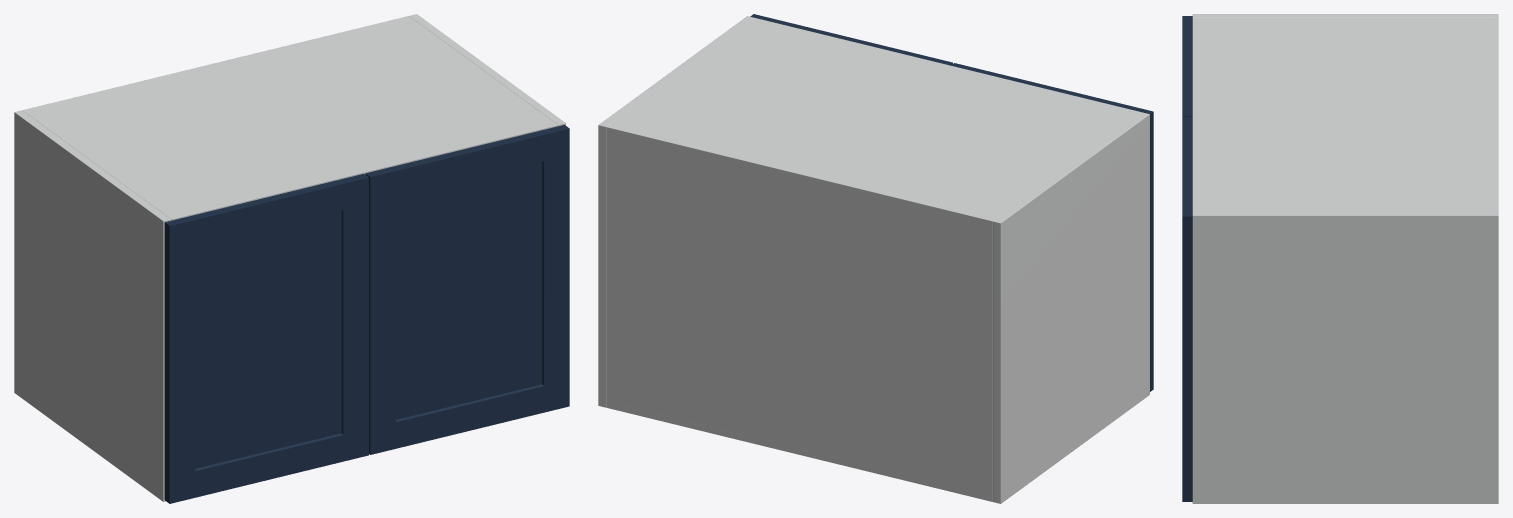
Rendered from oppein-pb-bss-w362424.glb.
The picture shows the model from 3 angles, left to right: view 1: azimuth 30°, elevation 25°; view 2: azimuth 150°, elevation 25°; view 3: azimuth 270°, elevation 25°; orthographic projection. The views are drawn at different scales.
Visible parts, largest first — view 1: Door, Door.001, Cabinet top, Cabinet side, Cabinet side.001, Cabinet back; view 2: Cabinet back, Cabinet top, Cabinet side, Cabinet side.001, Cabinet bottom, Door, Door.001; view 3: Cabinet side.001, Cabinet top, Door.001, Cabinet side, Cabinet back, Door.
Boxes of the visible parts, left/top/right/bottom form: Door: left=164, top=173, right=368, bottom=503; Door.001: left=365, top=125, right=569, bottom=454; Cabinet top: left=22, top=18, right=557, bottom=220; Cabinet side: left=14, top=110, right=170, bottom=501; Cabinet side.001: left=409, top=14, right=565, bottom=126; Cabinet back: left=23, top=16, right=411, bottom=111; Cabinet back: left=606, top=125, right=995, bottom=501; Cabinet top: left=606, top=18, right=1141, bottom=228; Cabinet side: left=993, top=112, right=1149, bottom=503; Cabinet side.001: left=598, top=16, right=754, bottom=407; Cabinet bottom: left=606, top=400, right=992, bottom=501; Door: left=951, top=63, right=1153, bottom=391; Door.001: left=750, top=14, right=952, bottom=65; Cabinet side.001: left=1192, top=211, right=1498, bottom=503; Cabinet top: left=1192, top=18, right=1498, bottom=211; Door.001: left=1182, top=116, right=1192, bottom=501; Cabinet side: left=1192, top=14, right=1498, bottom=17; Cabinet back: left=1493, top=18, right=1498, bottom=211; Door: left=1182, top=16, right=1192, bottom=116.
Bounding box in the file's own units: 0.9144 × 0.6096 × 0.6064.
